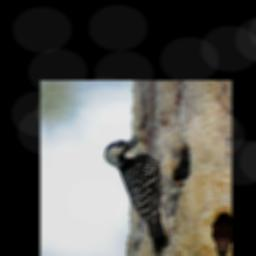Woodpecker: (97, 133, 186, 256)
